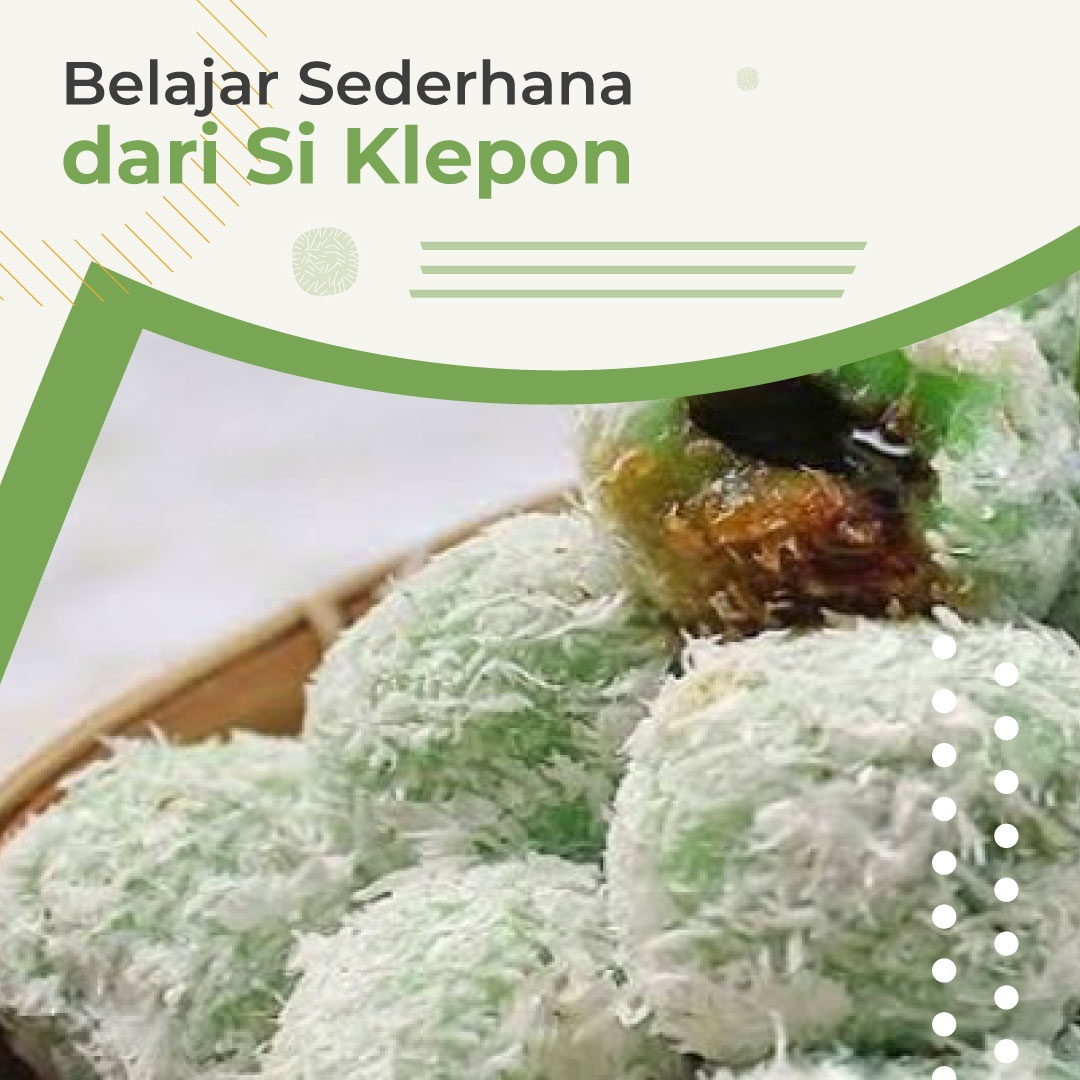klepon: (566, 573, 1061, 1009)
